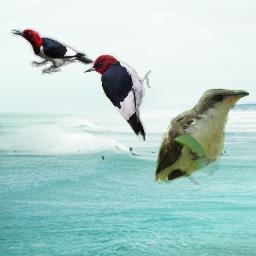Cuckoo: (153, 88, 249, 185)
Woodpecker: (80, 53, 151, 141), (9, 27, 95, 75)
